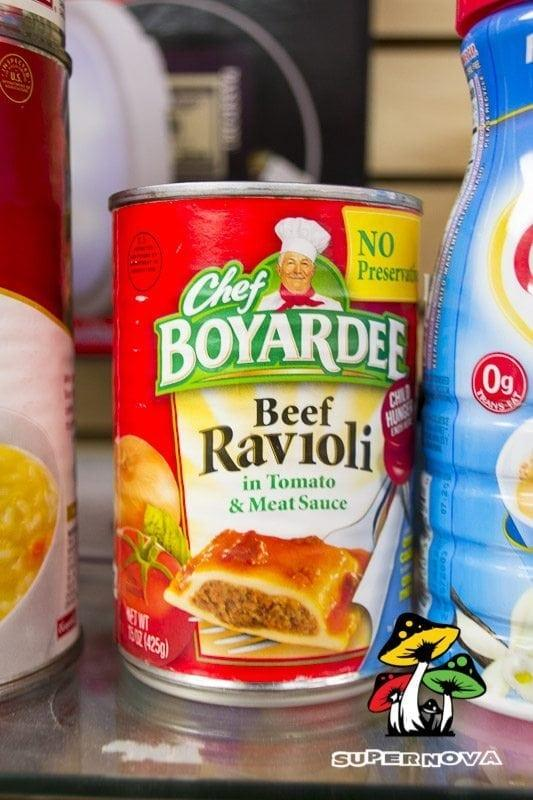metal: (110, 182, 420, 708), (0, 0, 79, 696)
